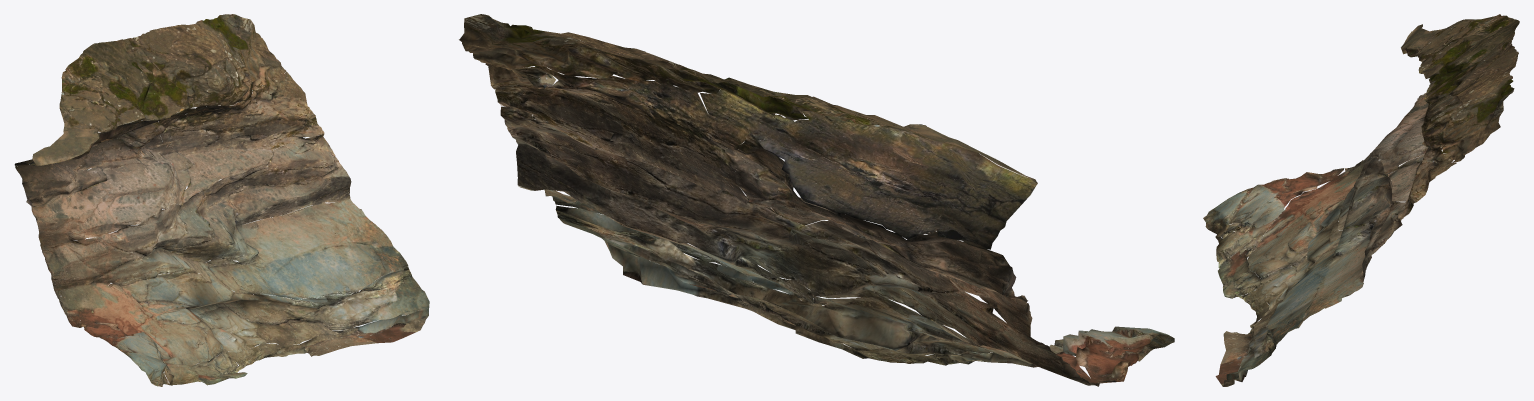
Rendered from rock_face_01.glb.
3 renders of one model, left to right at view 1: azimuth 30°, elevation 25°; view 2: azimuth 150°, elevation 25°; view 3: azimuth 270°, elevation 25°, orthographic. The views are drawn at different scales.
Visible parts, largest first — view 1: rock_face_01_LOD0; view 2: rock_face_01_LOD0; view 3: rock_face_01_LOD0.
Part boxes in pixels (x1,y1,x2,y2): rock_face_01_LOD0: [14, 14, 429, 386]; rock_face_01_LOD0: [459, 14, 1174, 386]; rock_face_01_LOD0: [1203, 14, 1519, 386].
Size of what is drawn, in the model's own units: 0.9996 by 0.7196 by 0.773.
1 material, 1 textured.
